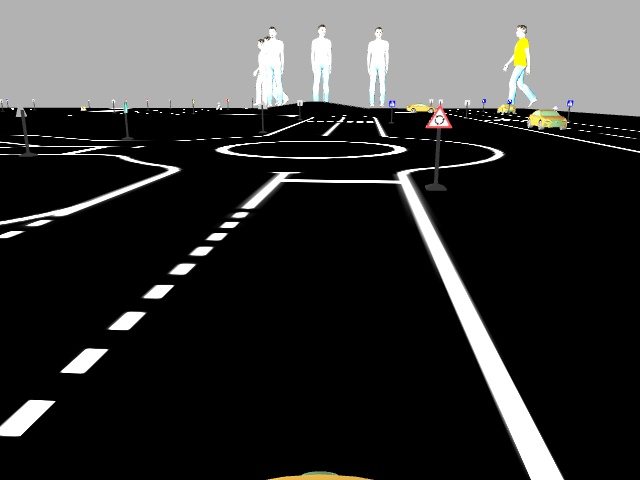Roundabout: (421, 103, 454, 129)
